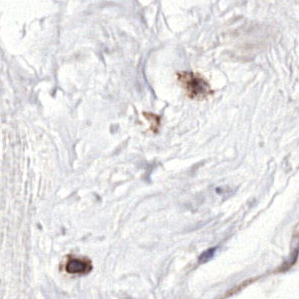Lymphocyte: (65, 252, 94, 274)
